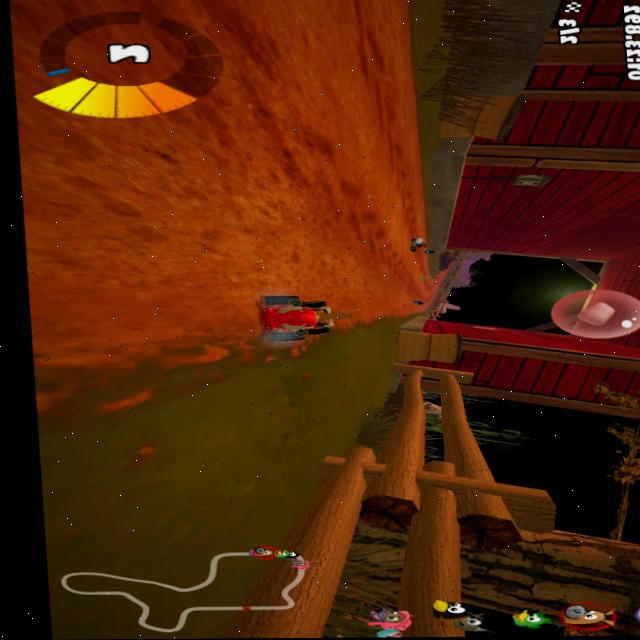enemy_kart: (404, 235, 429, 254)
nitro: (413, 298, 424, 305)
obstacle: (412, 272, 435, 283)
player_kart: (252, 292, 358, 348)
track: (0, 0, 258, 347), (234, 0, 357, 292), (336, 0, 408, 290), (386, 0, 422, 212), (350, 291, 410, 315), (398, 212, 431, 234), (412, 293, 433, 301), (413, 286, 439, 292), (409, 306, 428, 313), (439, 268, 444, 281)
